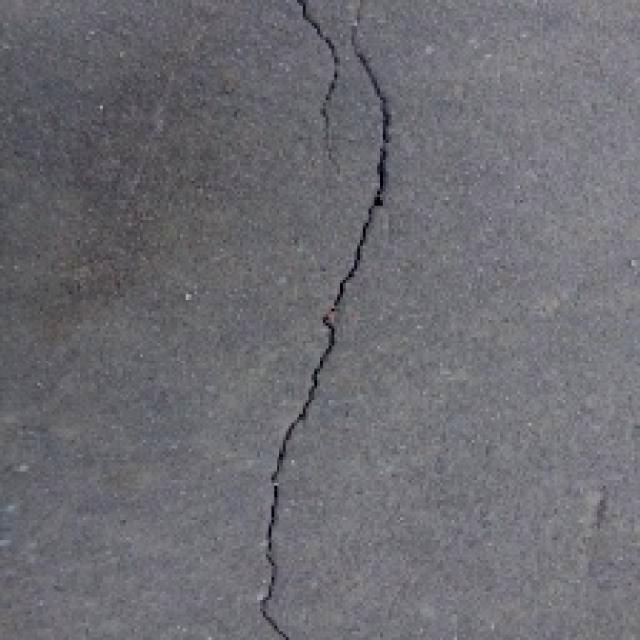SurfaceCrack: (220, 0, 412, 640)
